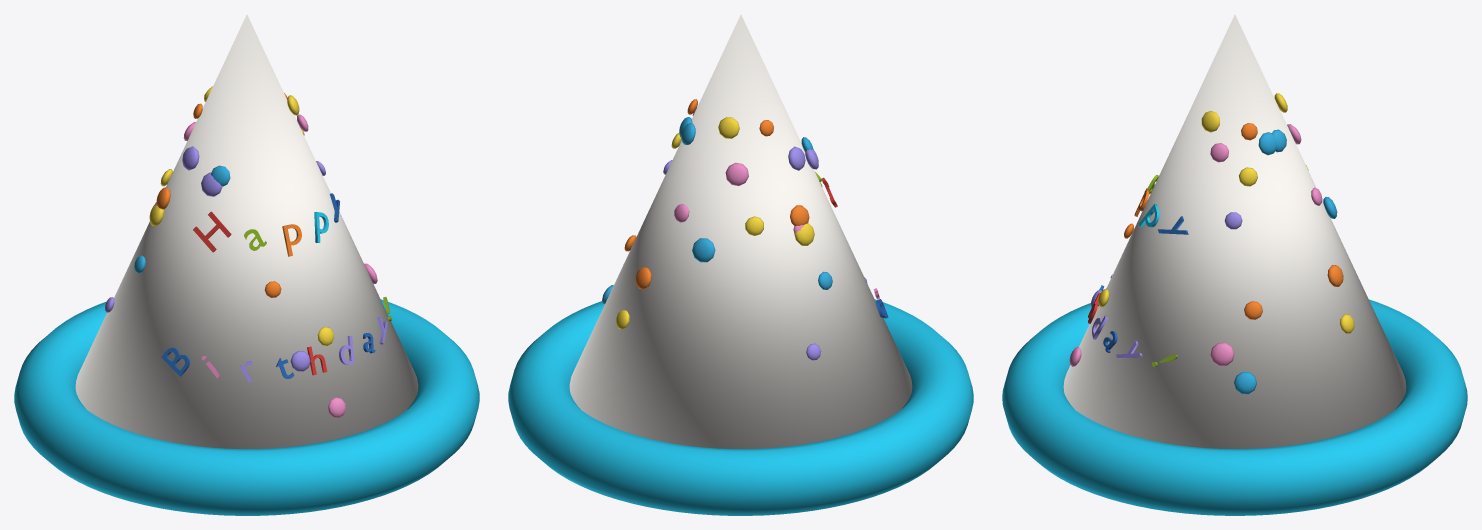
Rendered from party-hat.glb.
3 views of the same model, side by side, from view 1: azimuth 30°, elevation 25°; view 2: azimuth 150°, elevation 25°; view 3: azimuth 270°, elevation 25° (orthographic).
Visible parts, largest first — view 1: PartyHat_Body, PartyHat_Brim, PartyHat_Dots; view 2: PartyHat_Body, PartyHat_Brim, PartyHat_Dots; view 3: PartyHat_Body, PartyHat_Brim, PartyHat_Dots.
Boxes of the visible parts, left/top/right/bottom form: PartyHat_Body: left=75, top=14, right=418, bottom=448; PartyHat_Brim: left=14, top=299, right=479, bottom=515; PartyHat_Dots: left=105, top=86, right=377, bottom=417; PartyHat_Body: left=569, top=14, right=912, bottom=448; PartyHat_Brim: left=508, top=299, right=973, bottom=515; PartyHat_Dots: left=602, top=99, right=832, bottom=360; PartyHat_Body: left=1063, top=14, right=1406, bottom=448; PartyHat_Brim: left=1002, top=299, right=1467, bottom=515; PartyHat_Dots: left=1069, top=93, right=1354, bottom=394.
Size of the model in its own units: 1.23 by 1.2 by 1.23.
